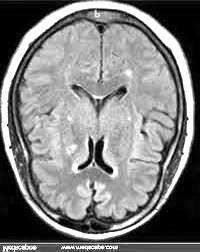Normal_Brain: (1, 1, 200, 249)
